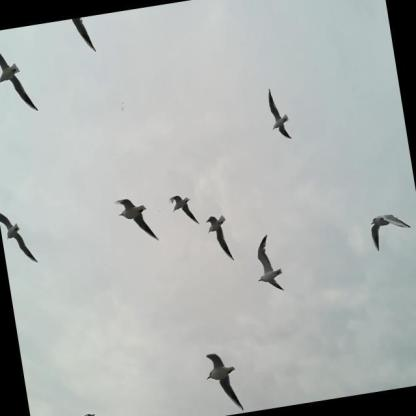bird: (0, 26, 39, 124), (200, 344, 248, 416), (0, 198, 41, 277), (249, 230, 290, 301), (113, 190, 161, 250), (364, 203, 415, 256), (202, 205, 240, 272), (263, 83, 295, 150), (162, 185, 201, 239), (79, 407, 103, 416)
